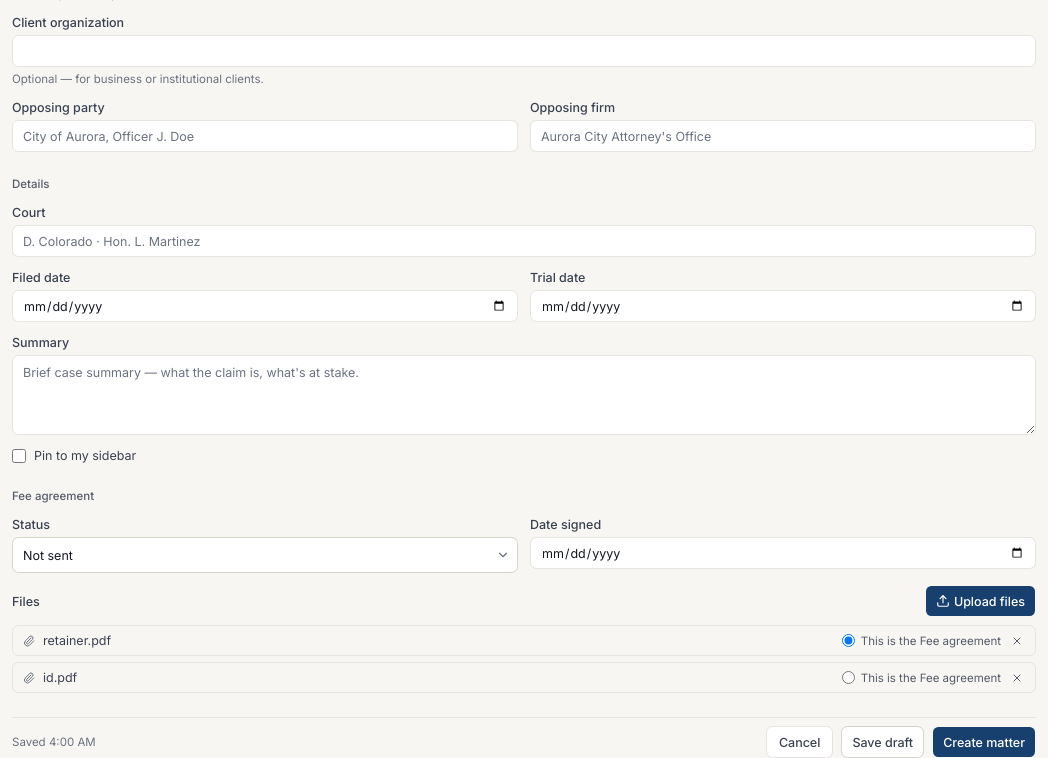
NewMatterForm - Save draft › stale: shows the verbatim message
(page scrolled)
Click the button "Save draft": (883, 742) 841,726 -> 924,757
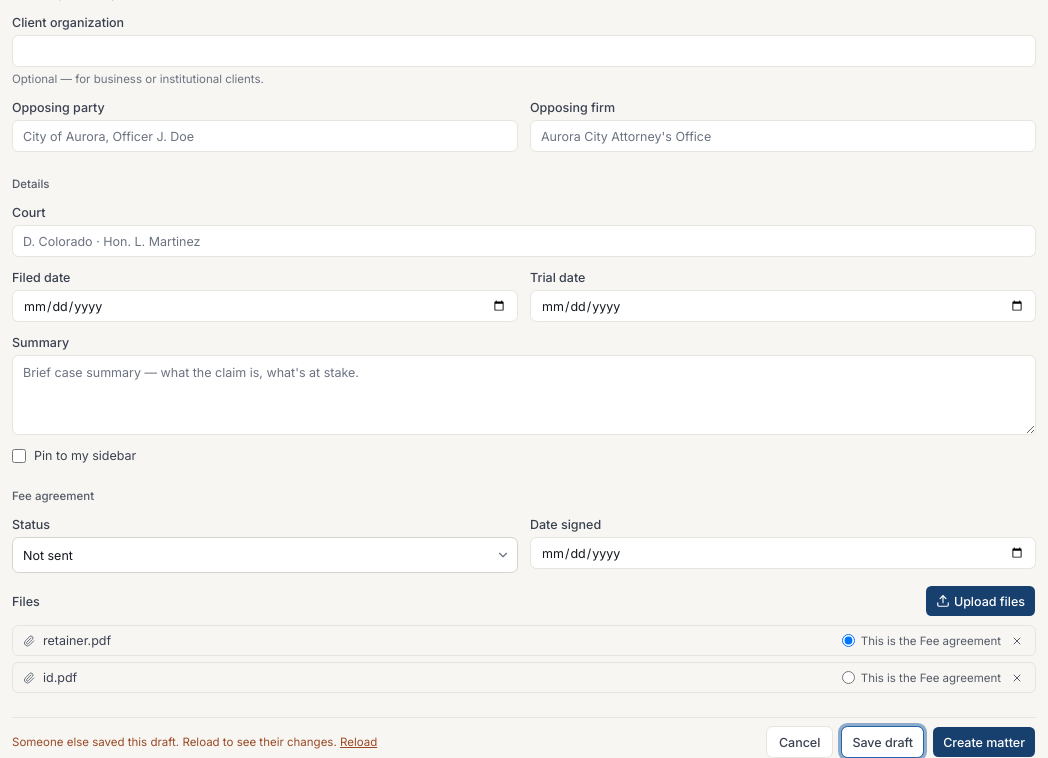
Expected: the text "Someone else saved this draft. Reload to see their changes. Reload" is shown, 12,734 -> 377,750
